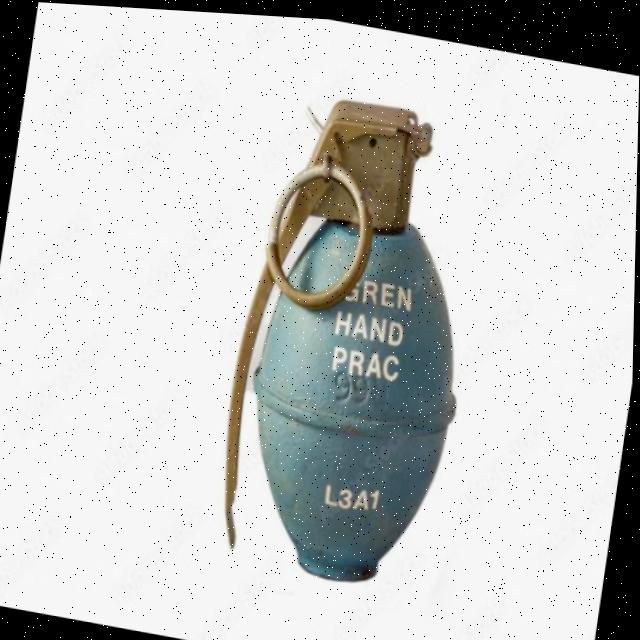grenade: (189, 51, 510, 610)
